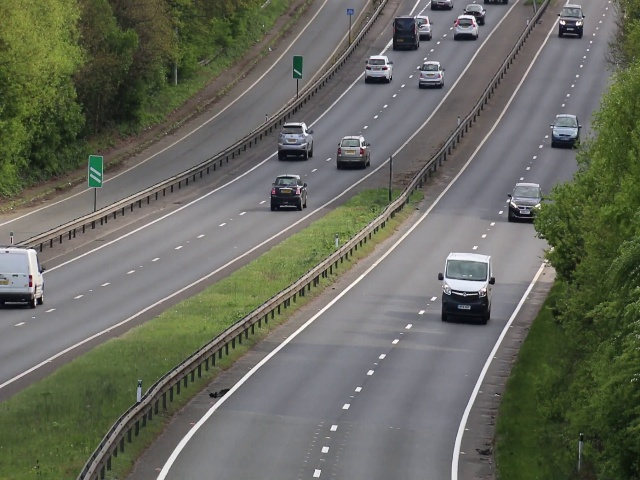car: (441, 252, 491, 324), (1, 248, 48, 307), (270, 174, 308, 211), (278, 122, 315, 158), (337, 135, 371, 168), (511, 183, 541, 220), (392, 17, 421, 51), (553, 111, 579, 147), (363, 54, 393, 83), (559, 6, 583, 40), (419, 60, 444, 88), (453, 16, 480, 38), (466, 4, 487, 22), (417, 15, 432, 37)
